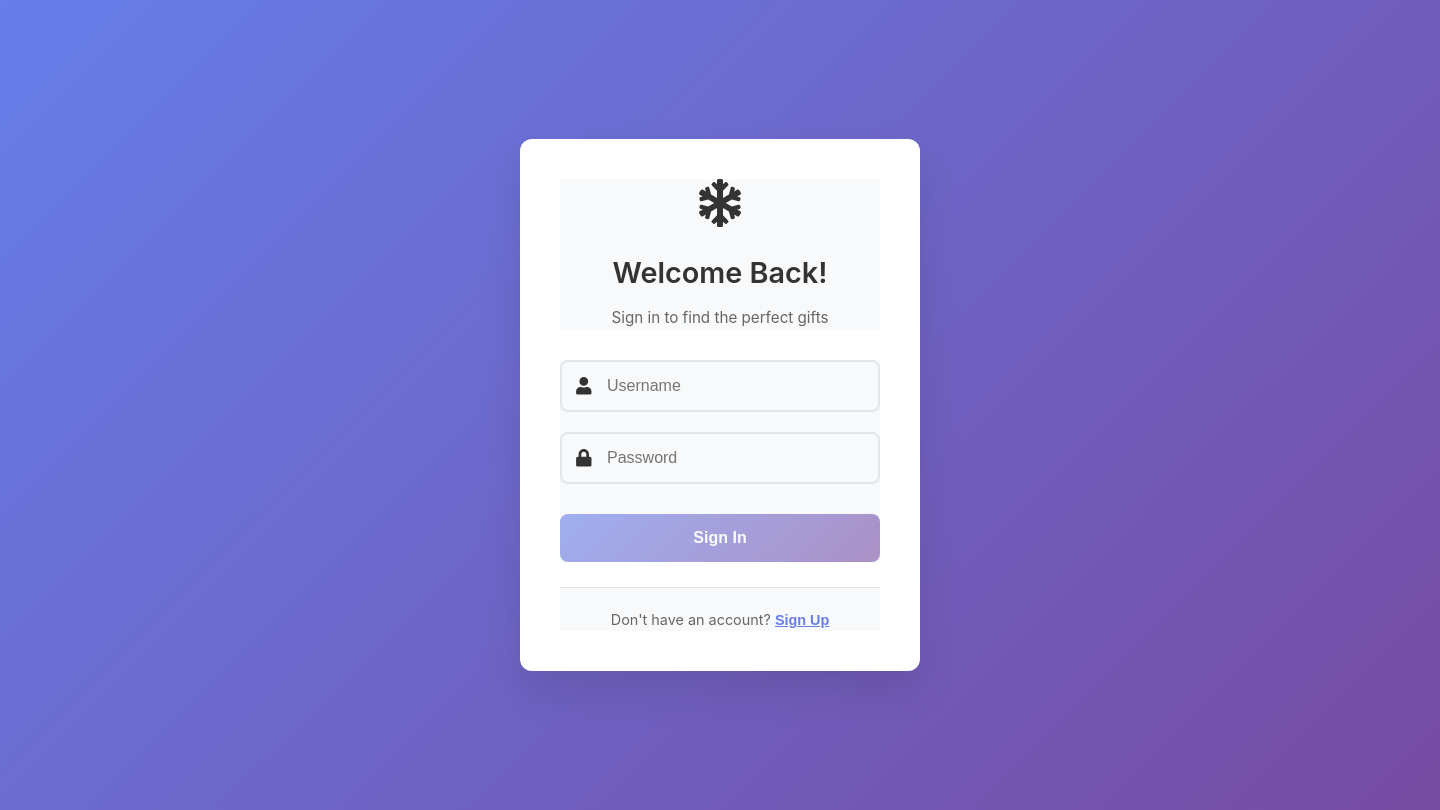
Test case: Login Component › Form Submission › shows error message on login failure
In the field labelled "Username": (720, 386) [560,360,880,412], type "testuser"
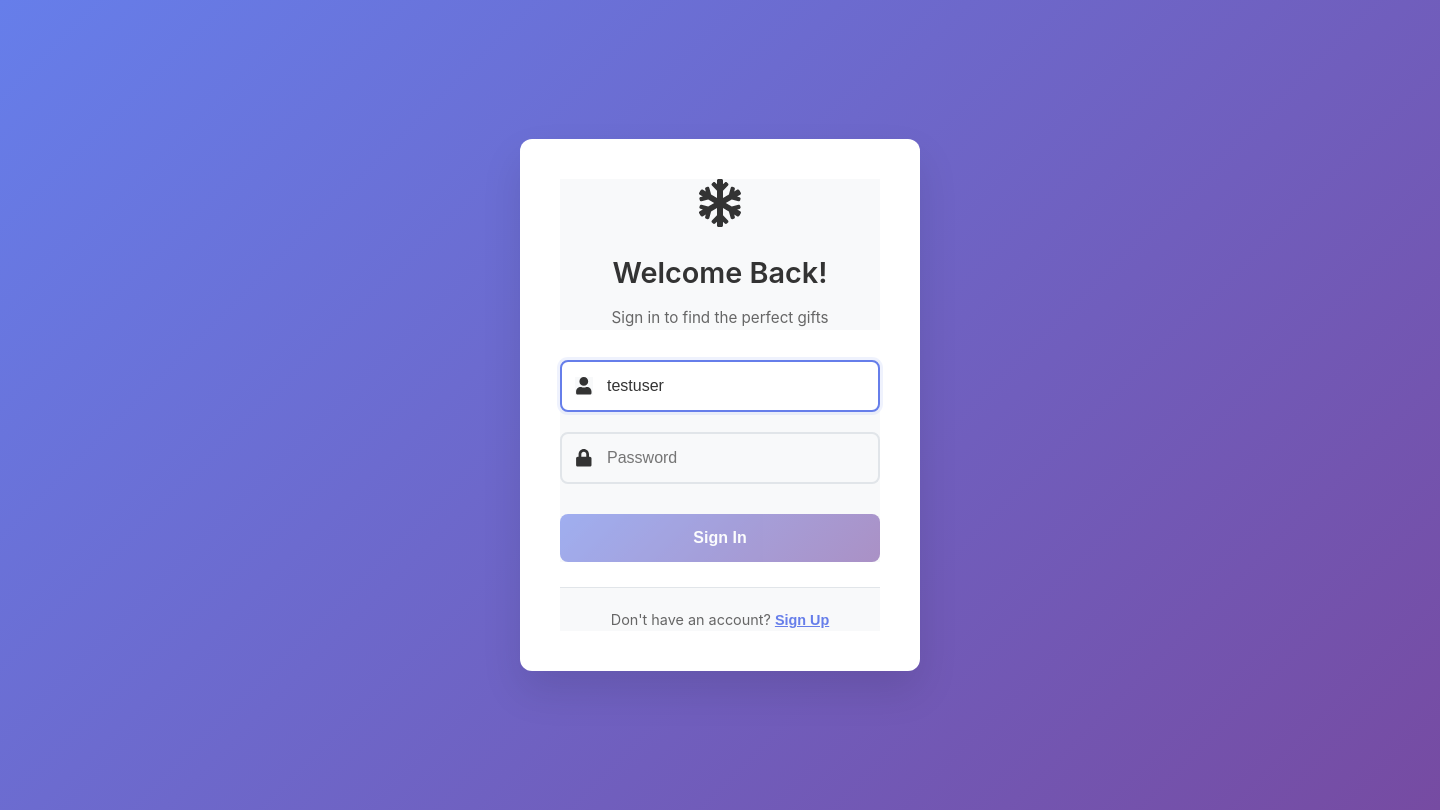
In the password field labelled "Password": (720, 458) [560,432,880,484], type "wrongpassword"
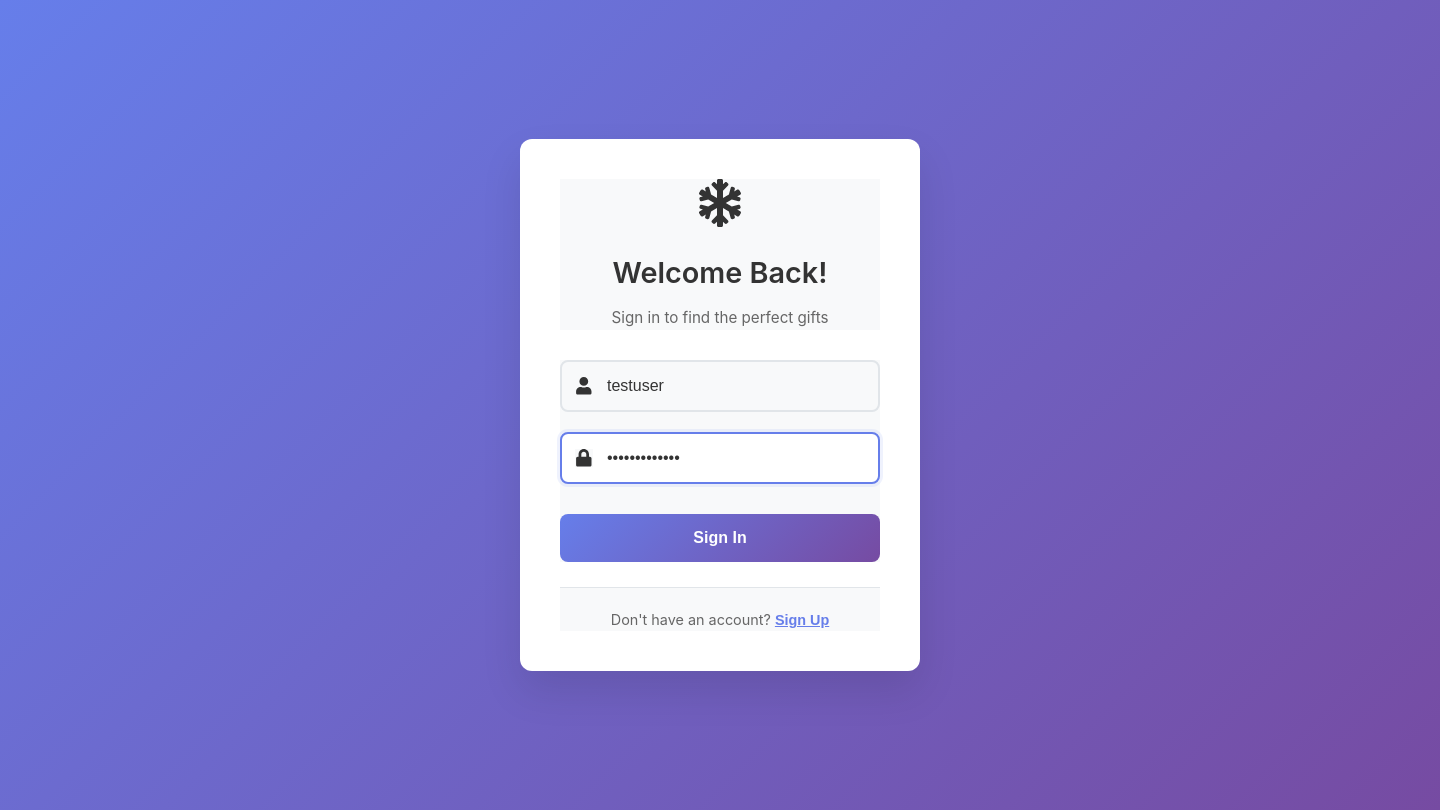
Click the button "Sign In": (720, 538) [560,514,880,562]
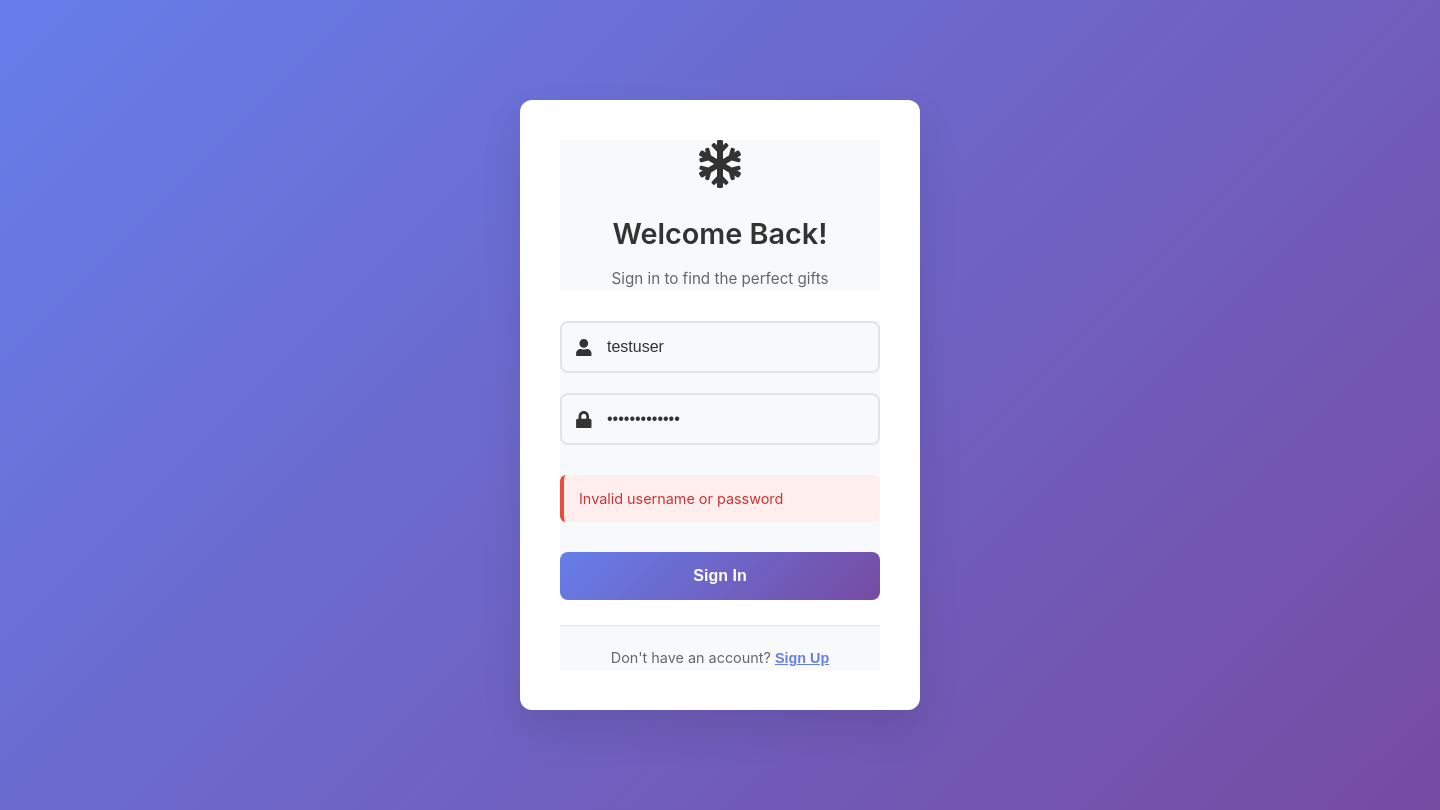
Check: the text "Invalid username or password" is shown, box [560,475,880,522]
